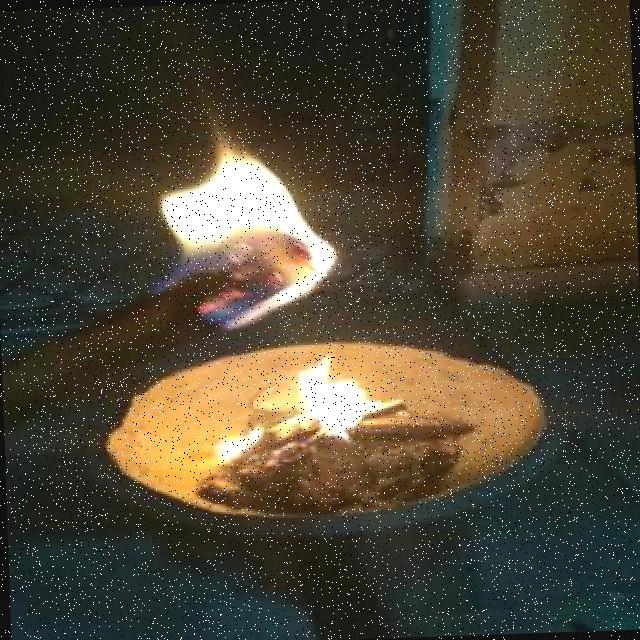Fire: (139, 113, 349, 340), (202, 356, 381, 456)
